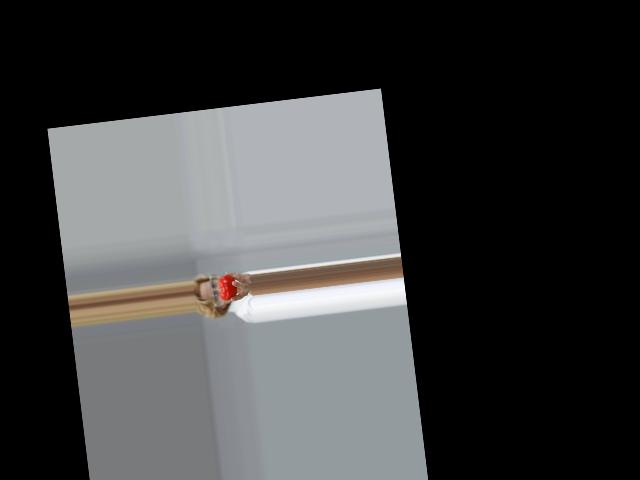tomato: (218, 274, 238, 302)
